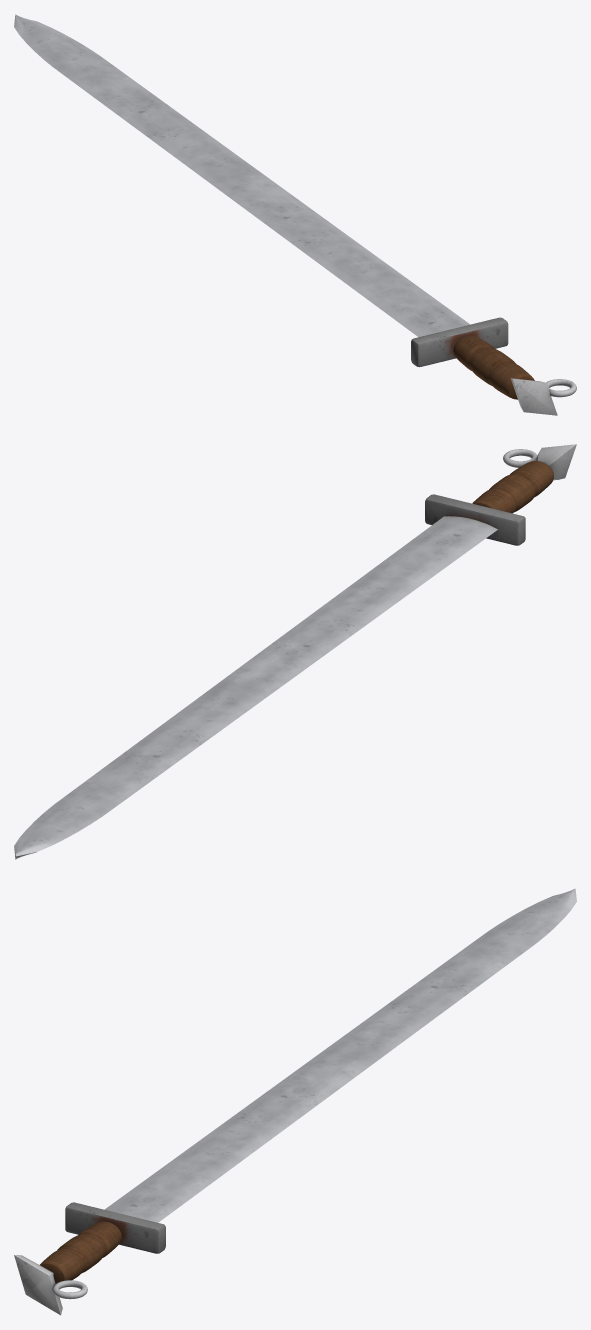
The model's file is goth_ring_spatha.glb.
3 views of the same model, one above another, from view 1: azimuth 30°, elevation 25°; view 2: azimuth 150°, elevation 25°; view 3: azimuth 330°, elevation 25° (orthographic). The views are drawn at different scales.
Parts seen in each view (by area): view 1: goth_ring_spatha; view 2: goth_ring_spatha; view 3: goth_ring_spatha.
Boxes of the visible parts, x1,y1,x2,y2 form: goth_ring_spatha: [14, 14, 576, 415]; goth_ring_spatha: [14, 444, 576, 859]; goth_ring_spatha: [14, 888, 576, 1315].
Size of the model in its own units: 0.0915 by 0.0452 by 0.9048.
1 material, 1 textured.
